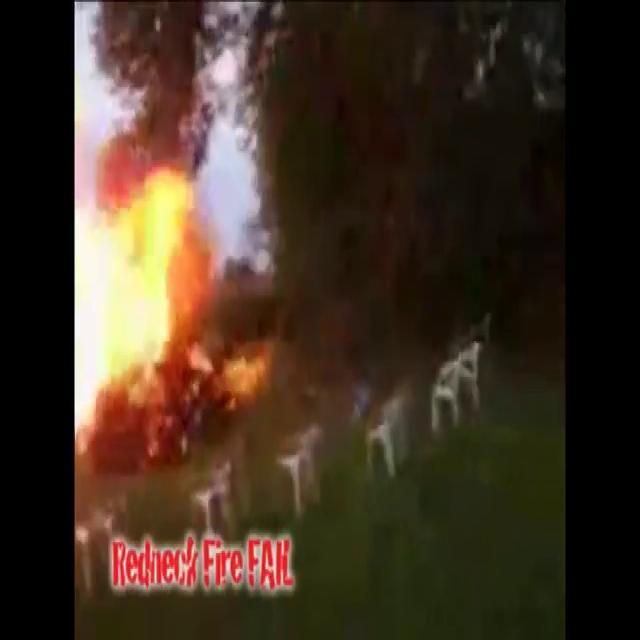Fire: (76, 159, 248, 460)
